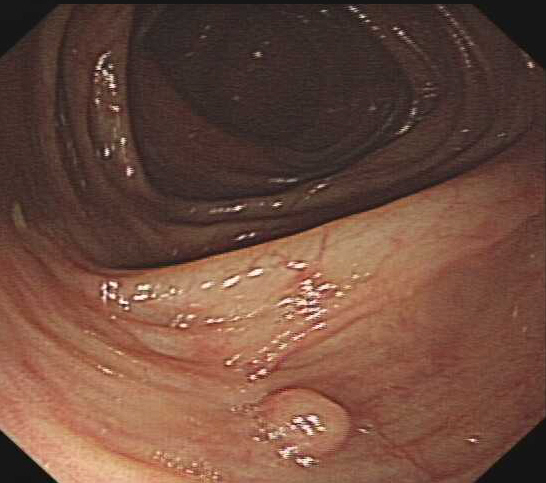adenoma: (251, 383, 350, 460)
